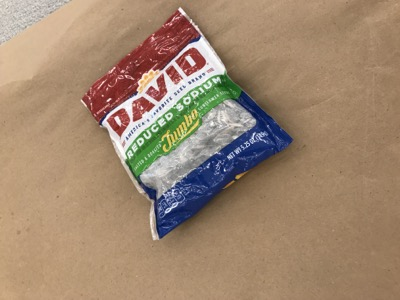sunflower seed: (81, 10, 291, 241)
